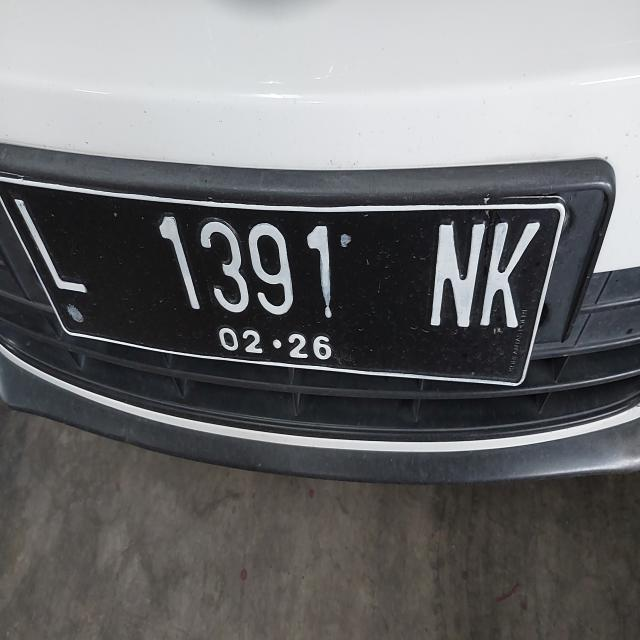1: (148, 202, 204, 324), (302, 218, 348, 332)
3: (203, 210, 248, 320)
9: (250, 215, 302, 322)
K: (486, 206, 539, 344)
L: (12, 180, 94, 316)
N: (430, 207, 482, 336)
